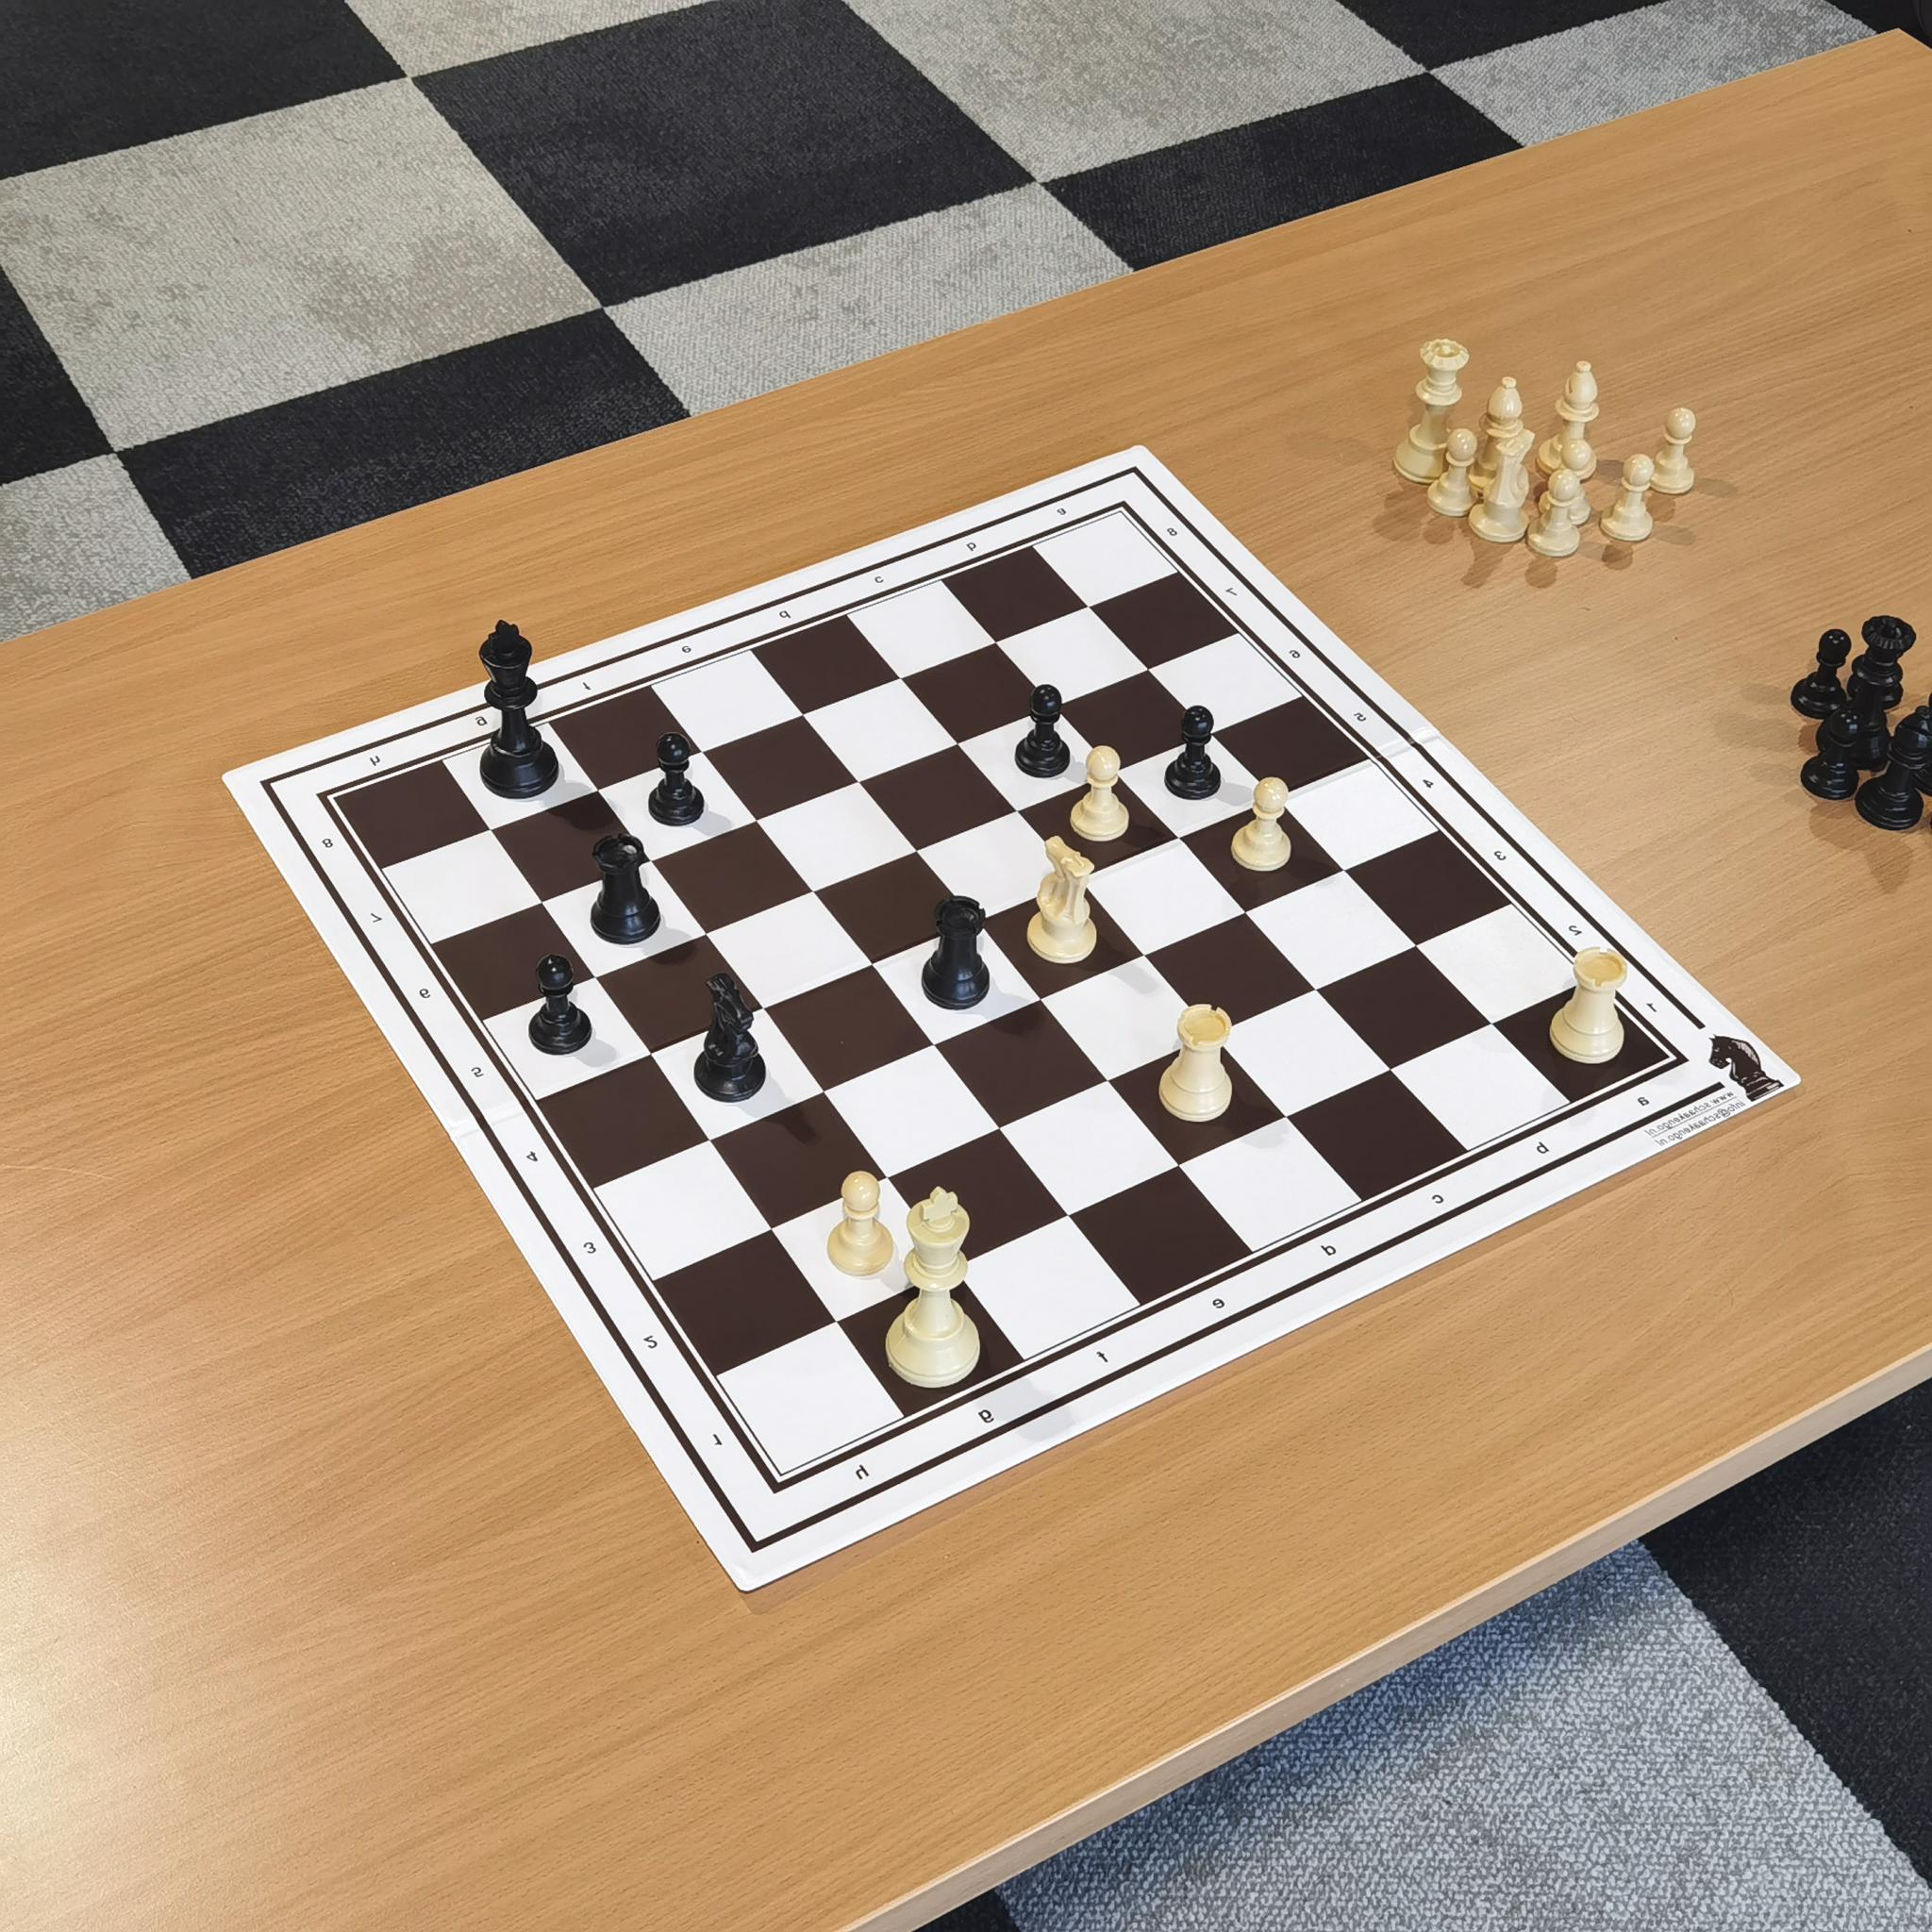corners: (747, 1460, 800, 1511), (1651, 1042, 1702, 1083), (301, 784, 352, 821), (1097, 495, 1141, 534)
eight: (310, 826, 343, 856), (1154, 517, 1189, 543)
one: (697, 1414, 740, 1460), (1626, 989, 1668, 1026)
